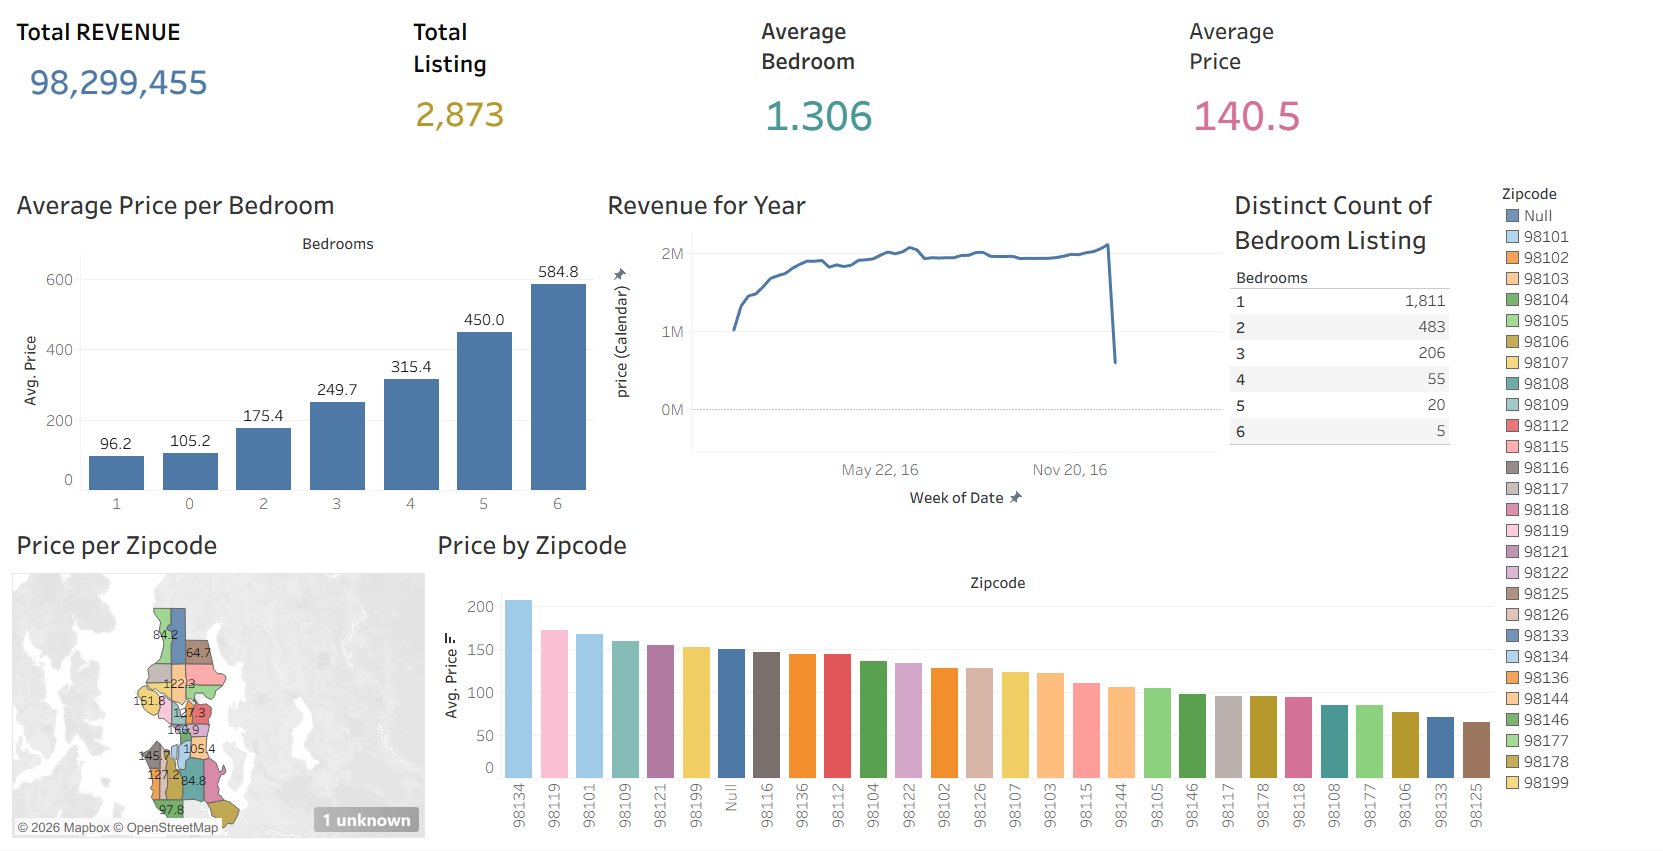

This screenshot's page, from the dashboard's own definition file:
{"tool":"tableau","page":{"name":"Dashboard 1","canvas":[1000,1000],"units":"permille","ordinal":0},"visuals":[{"type":"worksheet","title":"Sheet 4","mark":"Automatic","rows":["price"],"cols":["bedrooms"],"box":[4.8,9.4,339.2,502.9]},{"type":"worksheet","title":"Sheet 3","mark":"Automatic","rows":["price (Calendar)"],"cols":["date"],"box":[344,9.4,373.6,502.9]},{"type":"worksheet","title":"Sheet 5","mark":"Automatic","rows":["bedrooms"],"box":[717.6,9.4,181.1,502.9]},{"type":"legend","title":"Sheet 2","param":"[federated.1k7wfl50svunww1e5e6qs18n2nog].[none:zipcode:ok]","box":[898.6,9.4,96.6,726.2]},{"type":"worksheet","title":"Sheet 2","mark":"Multipolygon","box":[4.8,512.3,252.9,478.3]},{"type":"worksheet","title":"Sheet 1","mark":"Automatic","rows":["price"],"cols":["zipcode"],"box":[257.7,512.3,640.9,478.3]}]}

Visuals, with their boxes on the dashboard's canvas, which has no fixed pixel size, in thousandths of its width and height (x1, y1, x2, y2). These are canvas units, not pixel positions in the 1663x851 screenshot, which may show the page scaled, cropped or inside an application window:
"Sheet 4" worksheet: region(5, 9, 344, 512)
"Sheet 3" worksheet: region(344, 9, 718, 512)
"Sheet 5" worksheet: region(718, 9, 899, 512)
"Sheet 2" legend: region(899, 9, 995, 736)
"Sheet 2" worksheet (Multipolygon marks): region(5, 512, 258, 991)
"Sheet 1" worksheet: region(258, 512, 899, 991)
